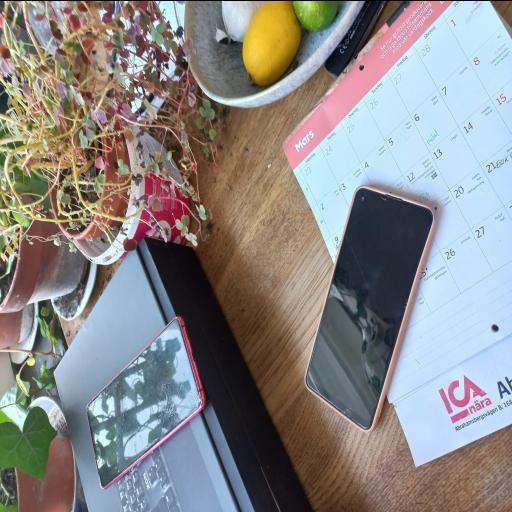phone: (306, 186, 434, 430), (87, 316, 205, 487)
